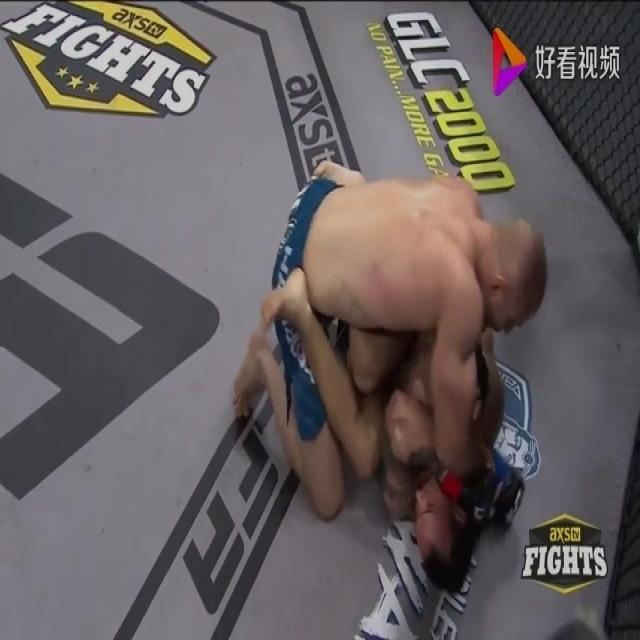fight: (234, 152, 556, 598)
